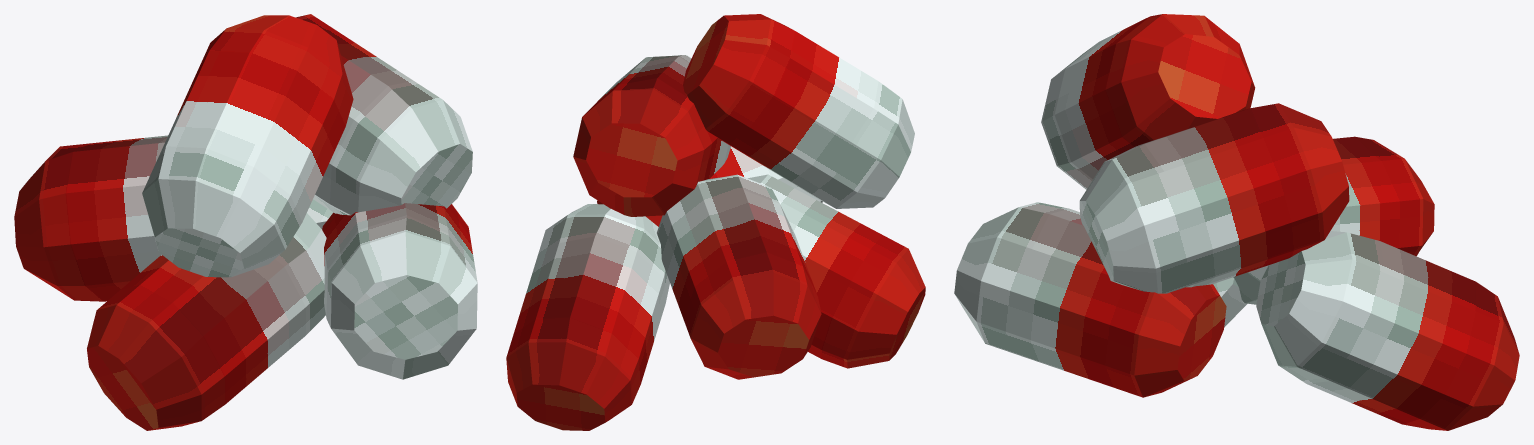
Rendered from pills.glb.
3 renders of one model, left to right at view 1: azimuth 30°, elevation 25°; view 2: azimuth 150°, elevation 25°; view 3: azimuth 270°, elevation 25°, orthographic. The views are drawn at different scales.
Visible parts, largest first — view 1: Cylinder.005, Cylinder, Cylinder.003, Cylinder.001, Cylinder.004; view 2: Cylinder.005, Cylinder.002, Cylinder.001, Cylinder.004, Cylinder, Cylinder.003; view 3: Cylinder.002, Cylinder.004, Cylinder.003, Cylinder.005, Cylinder.001, Cylinder.
Boxes of the visible parts, bbox=[...] form: Cylinder.005: bbox=[142, 15, 353, 277]; Cylinder: bbox=[87, 213, 326, 430]; Cylinder.003: bbox=[322, 203, 477, 379]; Cylinder.001: bbox=[14, 135, 167, 301]; Cylinder.004: bbox=[296, 14, 472, 215]; Cylinder.005: bbox=[683, 14, 914, 208]; Cylinder.002: bbox=[506, 204, 669, 430]; Cylinder.001: bbox=[657, 174, 821, 379]; Cylinder.004: bbox=[573, 55, 730, 216]; Cylinder: bbox=[748, 174, 925, 368]; Cylinder.003: bbox=[597, 146, 822, 226]; Cylinder.002: bbox=[1256, 231, 1519, 430]; Cylinder.004: bbox=[1079, 103, 1349, 293]; Cylinder.003: bbox=[954, 202, 1226, 397]; Cylinder.005: bbox=[1041, 14, 1255, 189]; Cylinder.001: bbox=[1233, 136, 1434, 304]; Cylinder: bbox=[1213, 277, 1247, 326].
Size of the model in its own units: 3.8 by 3.84 by 5.3.
1 material, 1 textured.
